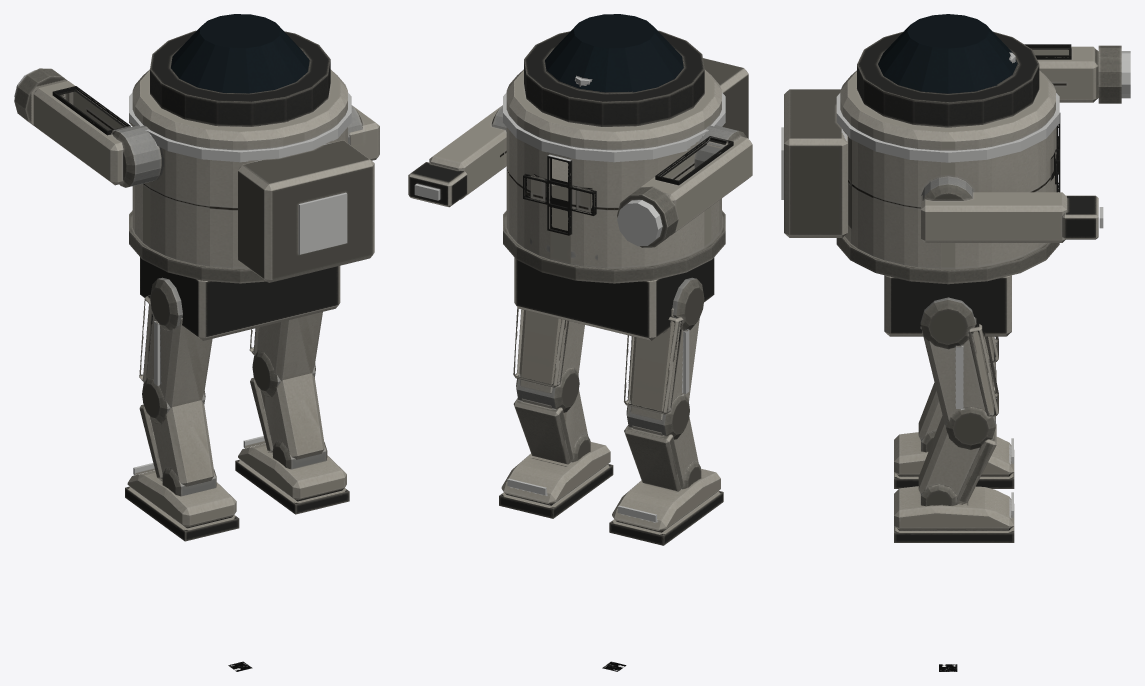
The model's file is ord_lazarus.fbx.
The picture shows the model from 3 angles, left to right: view 1: azimuth 30°, elevation 25°; view 2: azimuth 150°, elevation 25°; view 3: azimuth 270°, elevation 25°; orthographic projection.
Visible parts, largest first — view 1: base_bar, nano_bar, thighL_bar, base_glow_power_bar, shinL_bar, shinR_bar, footL_bar, footR_bar, thighR_bar; view 2: base_bar, thighL_bar, nano_bar, thighR_bar, footR_bar, footL_bar, shinL_bar, shinR_bar, base_glow_power_bar, nano_glow_power_bar; view 3: base_bar, thighR_bar, footR_bar, nano_bar, shinR_bar, base_glow_power_bar, footL_bar, shinL_bar.
Part boxes in pixels (bbox=[...]): base_bar: bbox=[129, 14, 379, 340]; nano_bar: bbox=[14, 68, 161, 187]; thighL_bar: bbox=[139, 277, 212, 423]; base_glow_power_bar: bbox=[129, 92, 351, 254]; shinL_bar: bbox=[139, 400, 216, 496]; shinR_bar: bbox=[250, 373, 327, 469]; footL_bar: bbox=[125, 470, 239, 541]; footR_bar: bbox=[235, 443, 349, 514]; thighR_bar: bbox=[249, 312, 322, 396]; base_bar: bbox=[408, 14, 748, 340]; thighL_bar: bbox=[624, 277, 704, 439]; nano_bar: bbox=[617, 125, 752, 247]; thighR_bar: bbox=[513, 307, 584, 412]; footR_bar: bbox=[499, 442, 613, 518]; footL_bar: bbox=[609, 468, 723, 545]; shinL_bar: bbox=[624, 417, 701, 490]; shinR_bar: bbox=[513, 390, 590, 464]; base_glow_power_bar: bbox=[503, 92, 725, 162]; nano_glow_power_bar: bbox=[617, 200, 662, 246]; base_bar: bbox=[784, 14, 1098, 336]; thighR_bar: bbox=[920, 297, 998, 449]; footR_bar: bbox=[894, 486, 1014, 542]; nano_bar: bbox=[1024, 44, 1121, 103]; shinR_bar: bbox=[918, 416, 996, 506]; base_glow_power_bar: bbox=[781, 93, 1059, 199]; footL_bar: bbox=[894, 432, 1014, 488]; shinL_bar: bbox=[918, 370, 996, 452].
Bounding box in the file's own units: 344 × 770 × 383.
Materials: 2 (2 with a texture image).
